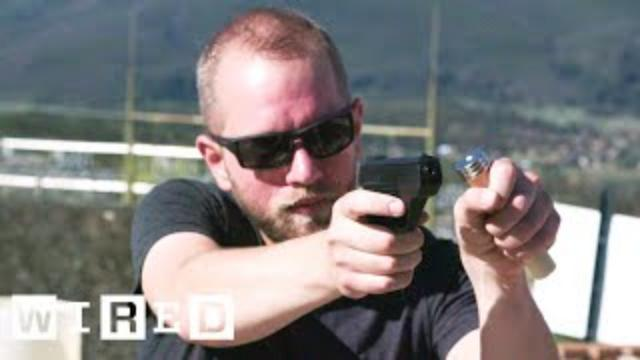handgun: (352, 148, 446, 248)
